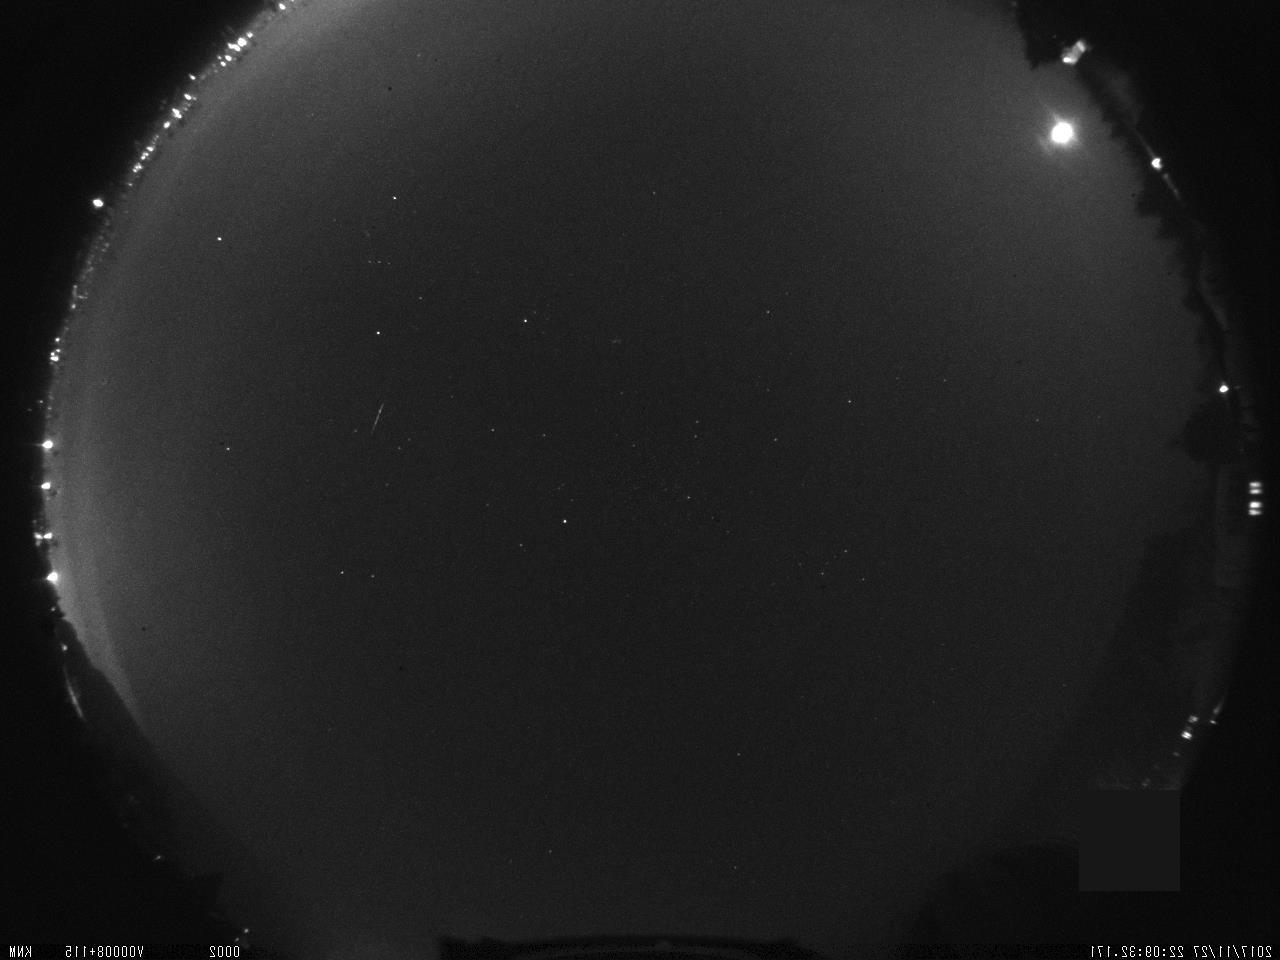satelite: (363, 395, 389, 444)
